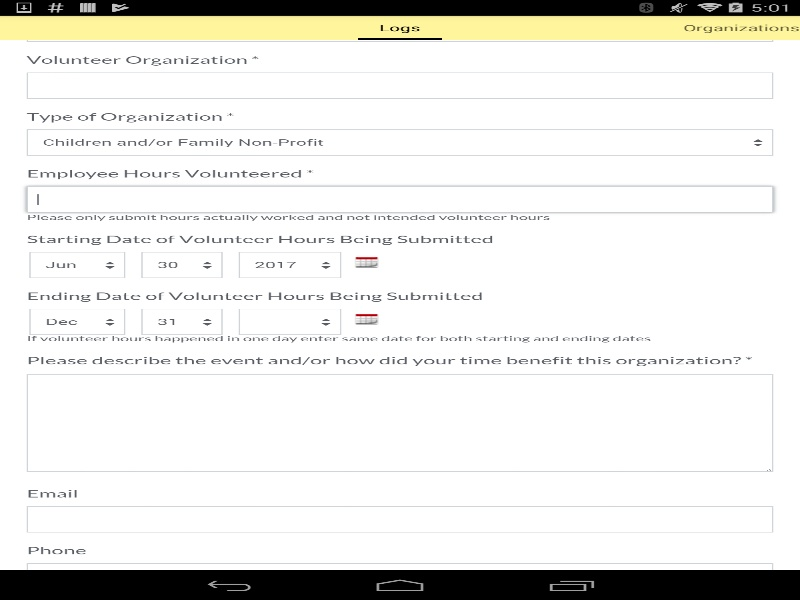Button: (26, 15, 773, 41), (26, 129, 773, 155), (238, 251, 341, 278), (238, 528, 341, 555), (29, 251, 125, 278), (29, 308, 125, 335), (141, 251, 222, 278), (141, 308, 222, 335)
Input: (26, 72, 773, 98), (26, 186, 773, 212)
